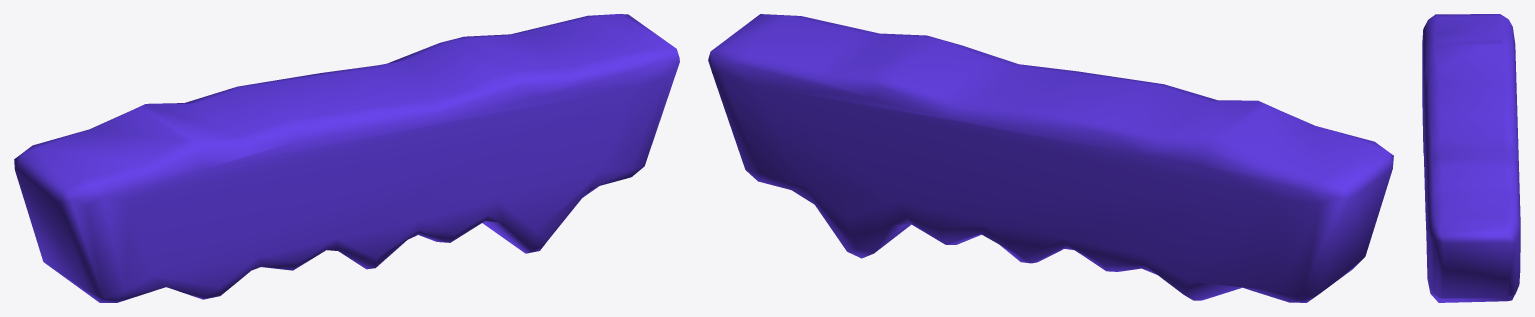
Rendered from Base 1 (FIX).fbx.
The picture shows the model from 3 angles, left to right: view 1: azimuth 30°, elevation 25°; view 2: azimuth 150°, elevation 25°; view 3: azimuth 270°, elevation 25°; orthographic projection. The views are drawn at different scales.
Visible parts, largest first — view 1: Cube.003; view 2: Cube.003; view 3: Cube.003.
Part boxes in pixels (x1=…): Cube.003: x1=14, y1=14, x2=679, y2=302; Cube.003: x1=708, y1=14, x2=1393, y2=302; Cube.003: x1=1422, y1=14, x2=1520, y2=302.
Bounding box in the file's own units: 106 × 347 × 67.41.
